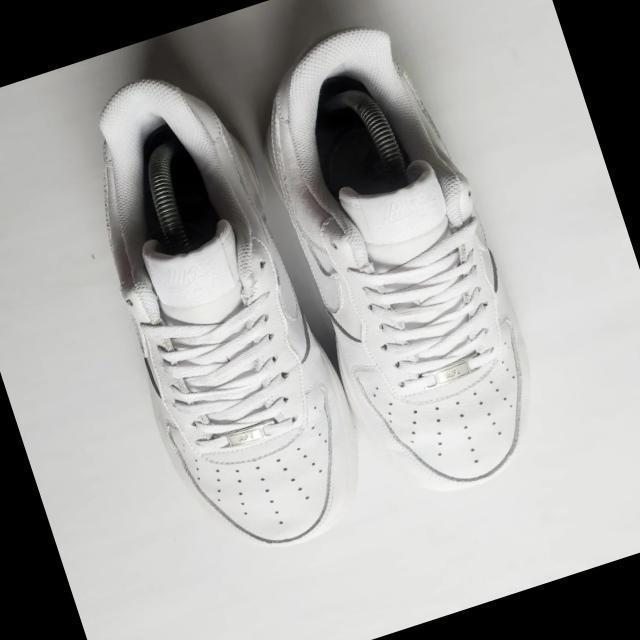nike fake air force: (44, 35, 384, 571), (226, 0, 561, 516)
